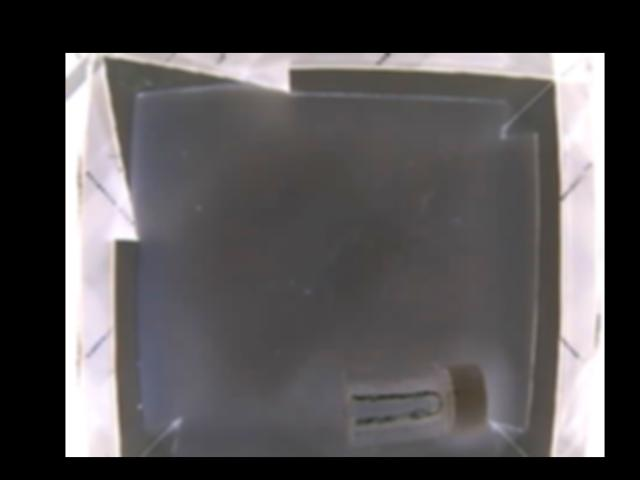Bottle: (345, 363, 489, 447)
